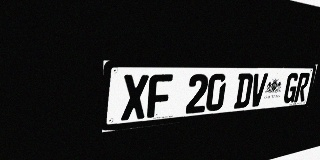0: (205, 74, 227, 112)
2: (186, 74, 209, 114)
D: (233, 73, 254, 109)
F: (147, 74, 173, 118)
G: (282, 73, 300, 104)
R: (294, 73, 311, 102)
V: (249, 73, 268, 107)
X: (121, 74, 149, 121)
